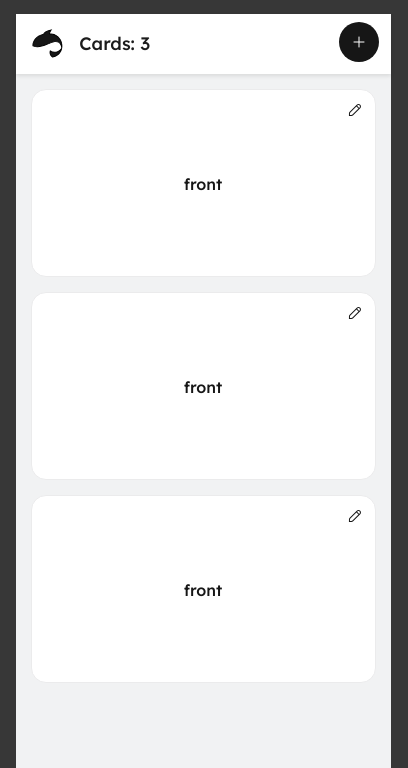
Test: Card integration tests › deleting card from list
Click the 1st button with test id "edit-button". click: (354, 110)
box: 334,90 -> 374,130
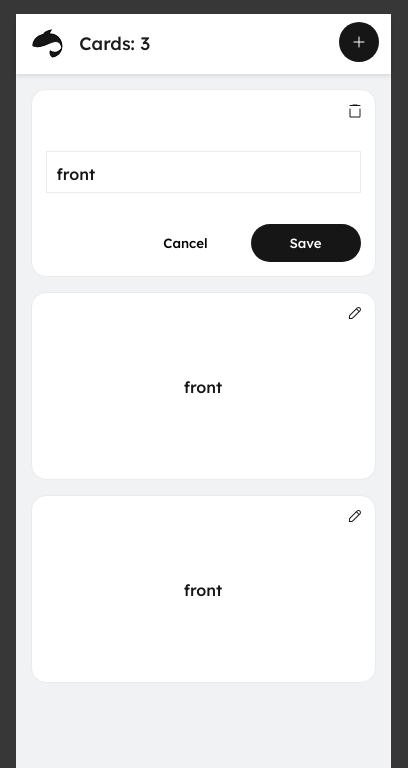
Click the button with test id "delete-button". click: (354, 110)
box: 334,90 -> 374,130
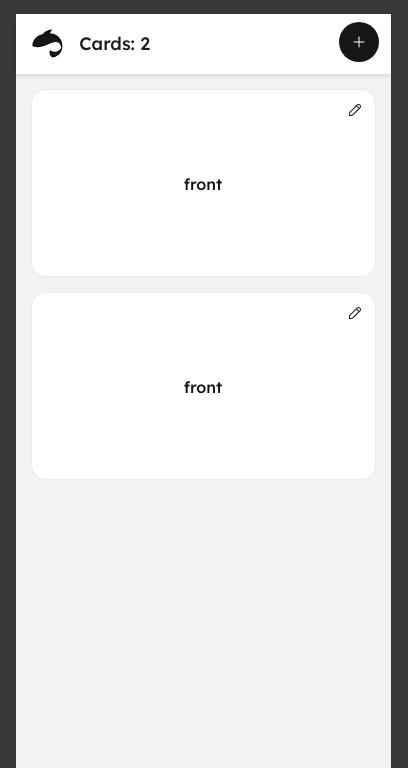
Result: the number of elements with test id "card" is 2 at 30,89 -> 376,277; 30,292 -> 376,480
